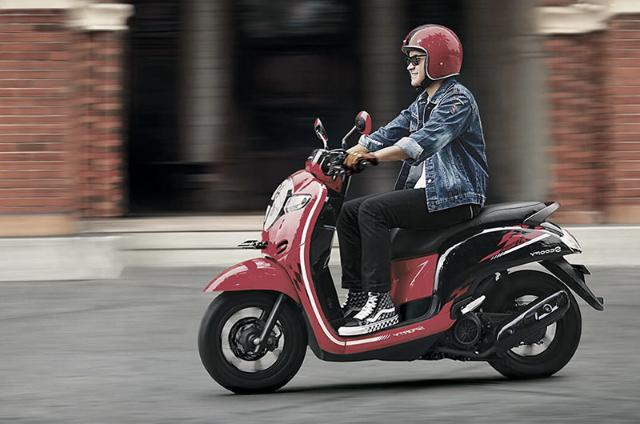helm: (399, 25, 466, 94)
motor: (191, 110, 610, 399)
